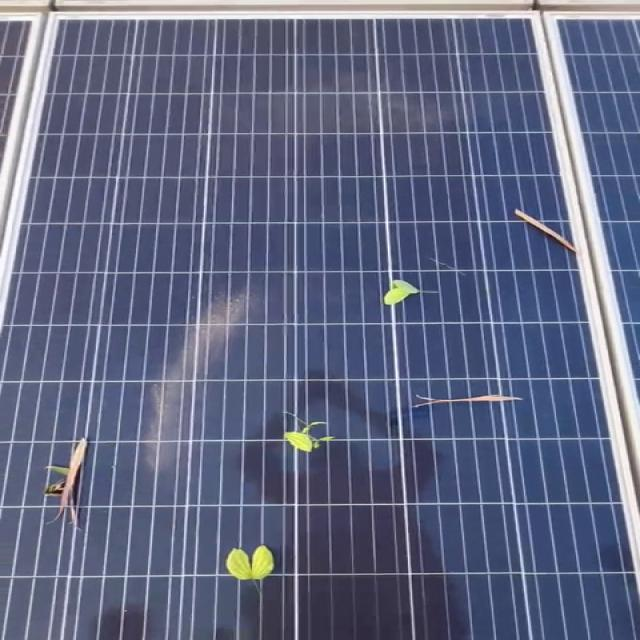dust_partical: (111, 268, 271, 477)
old_leaf: (496, 201, 620, 272), (40, 432, 122, 534), (266, 404, 358, 468), (200, 538, 309, 588), (395, 386, 529, 424), (356, 272, 451, 313)
